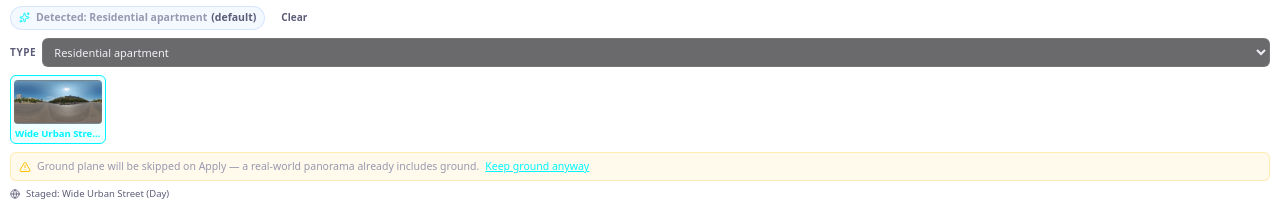
Test: PanoramaSection (V2 controlled picker) › "Keep ground anyway" link toggles into "Skip ground"
Click the button "Keep ground anyway".
click(537, 166)  # box [485, 159, 589, 174]
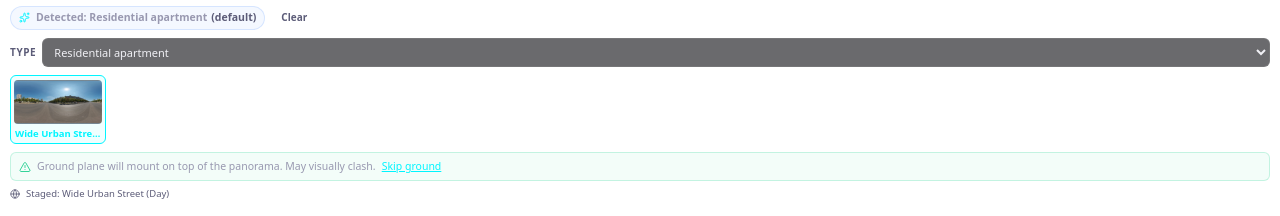
Check: the text "Ground plane will mount on top of the panorama" is shown, box [37, 159, 376, 173]
Check: the button "Skip ground" is shown, box [382, 159, 441, 174]
